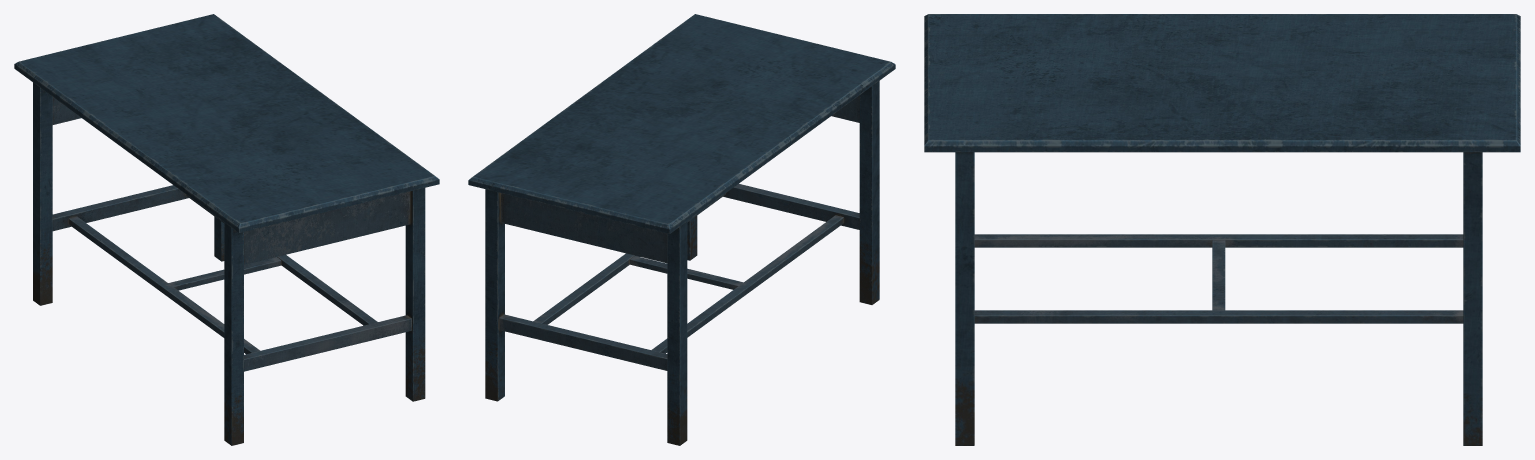
The model's file is table.glb.
The picture shows the model from 3 angles, left to right: view 1: azimuth 30°, elevation 25°; view 2: azimuth 150°, elevation 25°; view 3: azimuth 270°, elevation 25°; orthographic projection. The views are drawn at different scales.
Parts seen in each view (by area): view 1: Table; view 2: Table; view 3: Table.
Boxes of the visible parts, x1,y1,x2,y2 form: Table: (14,14,439,445); Table: (468,14,895,445); Table: (924,14,1520,445).
Size of the model in its own units: 1.03 by 1.13 by 2.
1 material, 1 textured.
